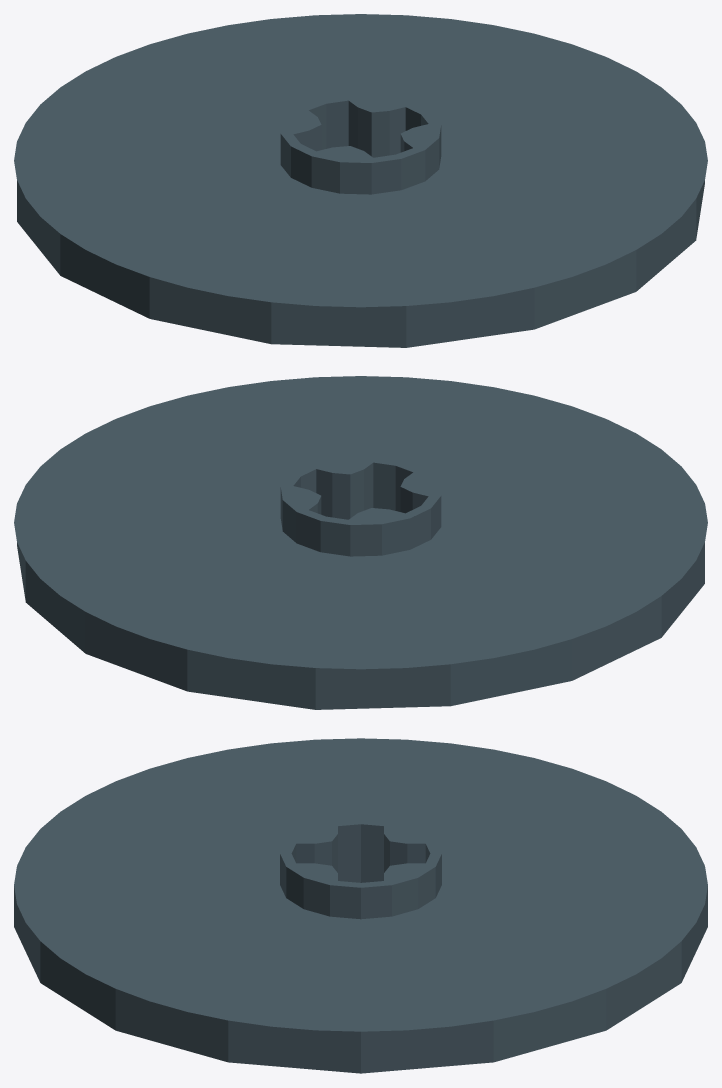
The picture shows the model from 3 angles, top to bottom: view 1: azimuth 30°, elevation 25°; view 2: azimuth 150°, elevation 25°; view 3: azimuth 270°, elevation 25°; orthographic projection.
Parts seen in each view (by area): view 1: world; view 2: world; view 3: world.
Boxes of the visible parts, <box> form: world: <box>14,14,707,347</box>; world: <box>14,376,707,709</box>; world: <box>14,738,707,1073</box>.
Size of the model in its own units: 0.024 by 0.004 by 0.024.
